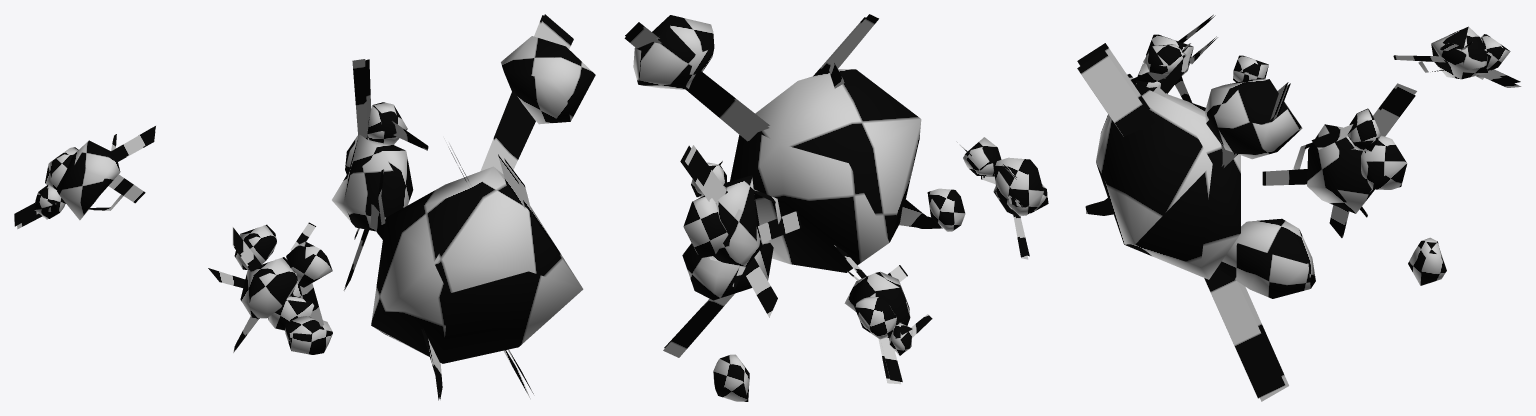
File: zone_asteroid_pirates1.obj
The picture shows the model from 3 angles, left to right: view 1: azimuth 30°, elevation 25°; view 2: azimuth 150°, elevation 25°; view 3: azimuth 270°, elevation 25°; orthographic projection. The views are drawn at different scales.
Visible parts, largest first — view 1: cluster; view 2: cluster; view 3: cluster.
Part boxes in pixels (bbox=[...]): cluster: bbox=[14, 14, 595, 400]; cluster: bbox=[624, 14, 1048, 401]; cluster: bbox=[1077, 14, 1521, 401].
Size of the model in its own units: 253 by 207 by 251.
Materials: 1 (1 with a texture image).
